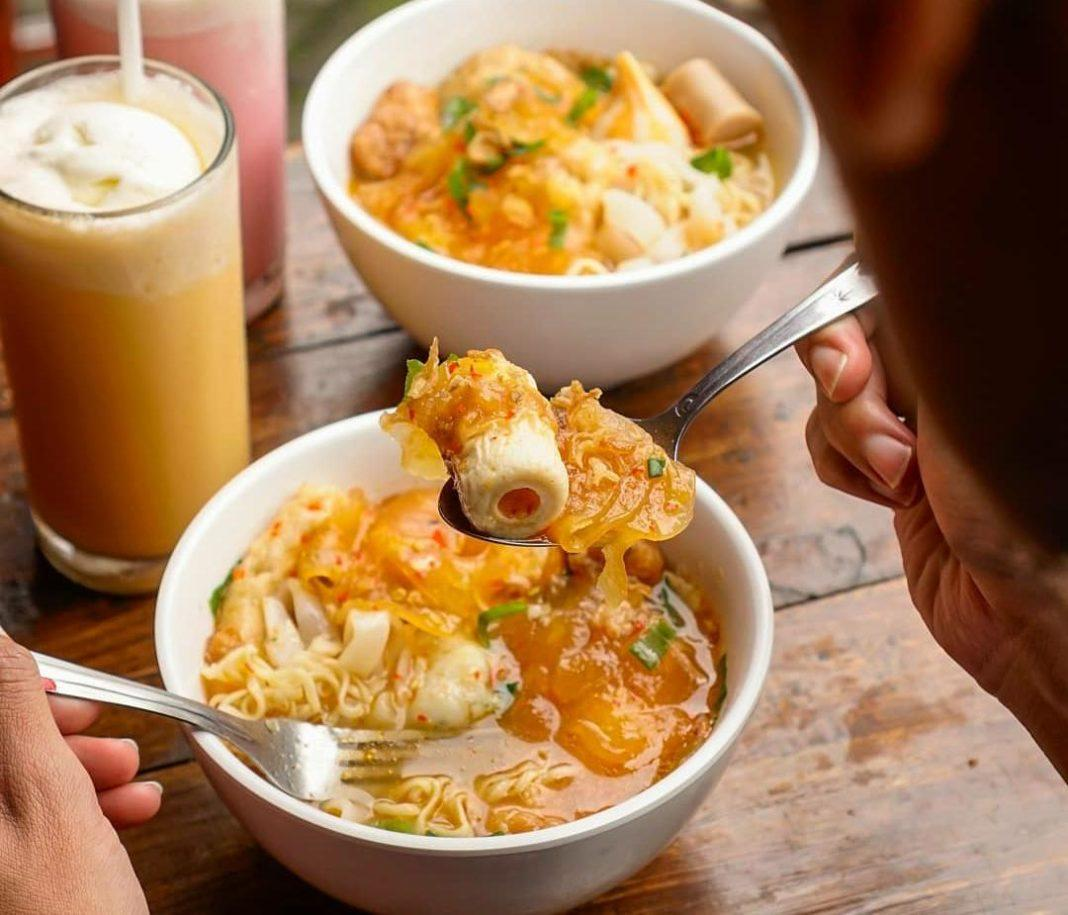seblak: (202, 358, 727, 837)
